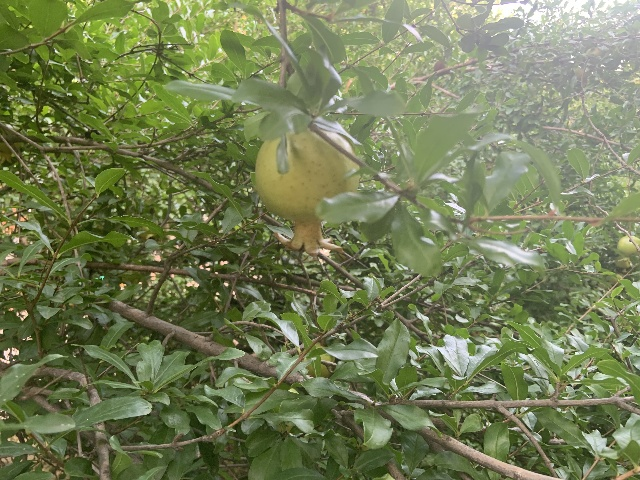mid-growth: (254, 128, 360, 257), (617, 235, 640, 263), (614, 256, 630, 272)
